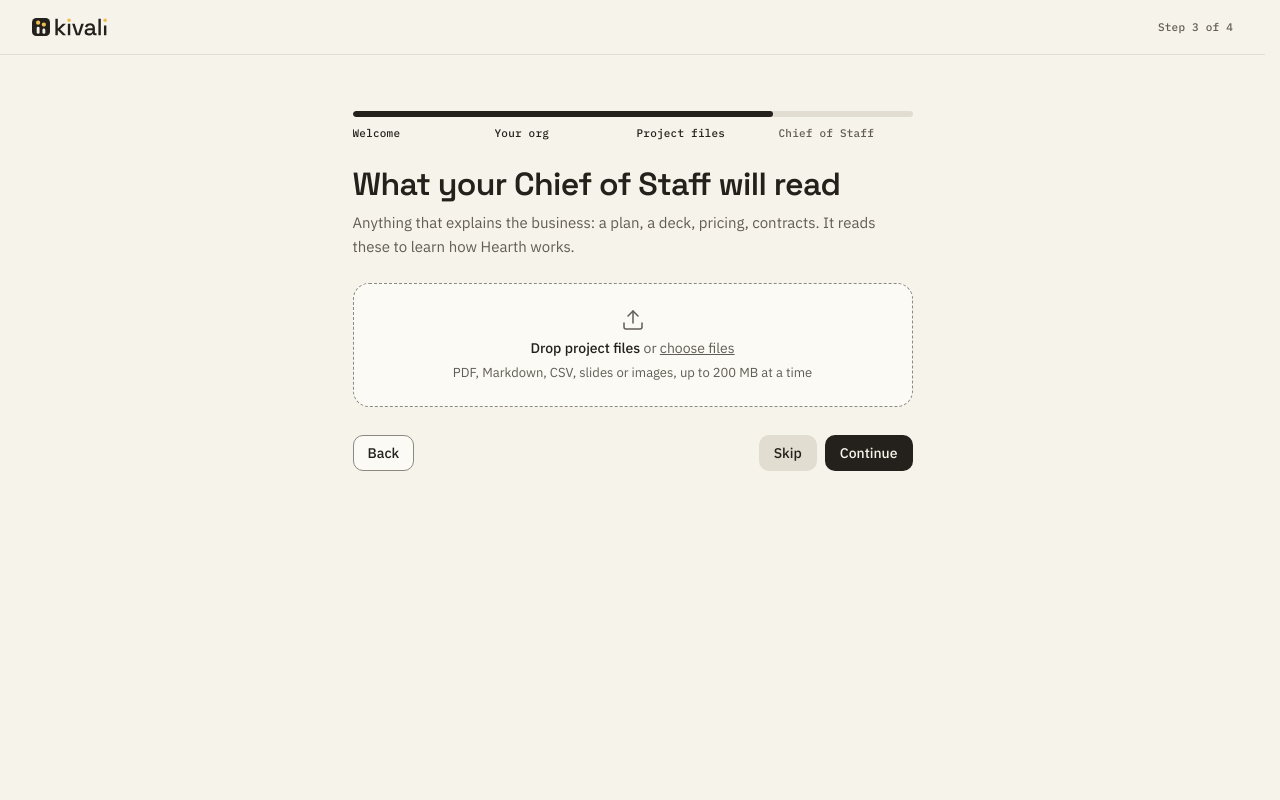
Pre-seeded name › starts at Project files when the desktop app already named the team, and Back still reaches Your org
Check: the heading "What your Chief of Staff will read" is shown, box [352,165,912,203]
Check: the text "Step 3 of 4" is shown, box [1158,19,1233,35]
Click the button "Back" at x=383, y=453, box [352,435,414,471]
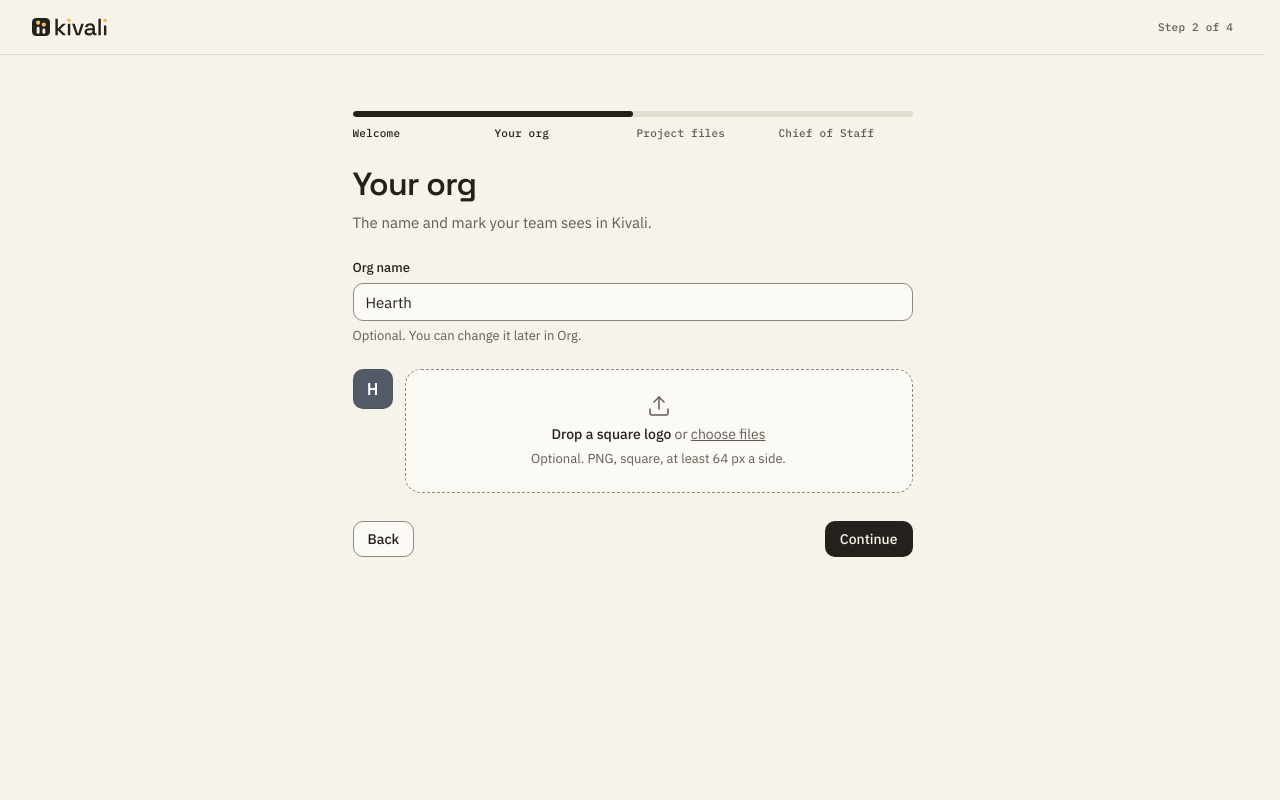
Check: the field labelled "Org name" holds "Hearth", box [352,283,912,321]
